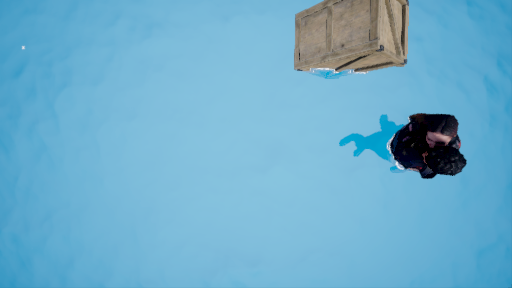person: (356, 108, 469, 189)
